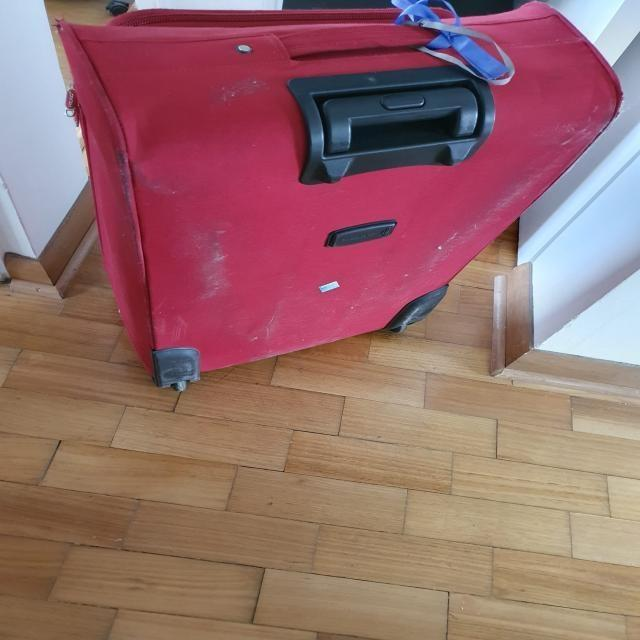Suitcase: (60, 3, 623, 396)
